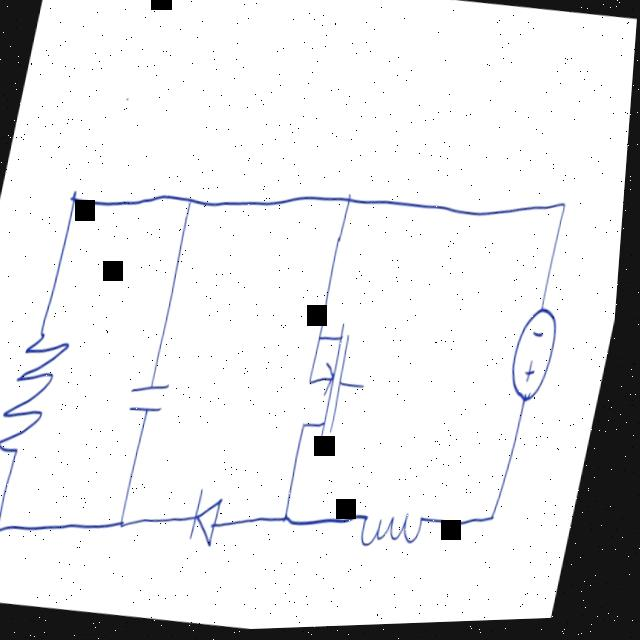capacitor: (122, 360, 191, 436)
diode: (184, 466, 247, 565)
inductor: (353, 486, 445, 582)
mosfet: (277, 304, 403, 466)
resistor: (0, 307, 80, 486)
source: (499, 293, 578, 421)
